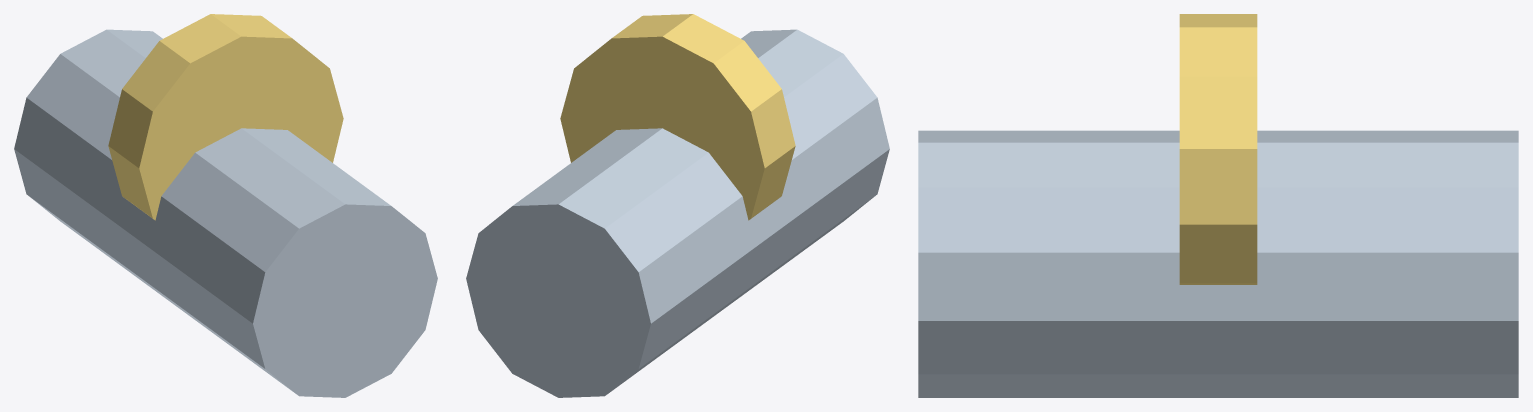
The model's file is bolardo.glb.
3 renders of one model, left to right at view 1: azimuth 30°, elevation 25°; view 2: azimuth 150°, elevation 25°; view 3: azimuth 270°, elevation 25°, orthographic. The views are drawn at different scales.
Parts seen in each view (by area): view 1: Bollard_1, BollardBand_2; view 2: Bollard_1, BollardBand_2; view 3: Bollard_1, BollardBand_2.
Boxes of the visible parts, x1,y1,x2,y2 form: Bollard_1: [14, 29, 437, 397]; BollardBand_2: [108, 14, 343, 220]; Bollard_1: [466, 29, 889, 397]; BollardBand_2: [560, 14, 795, 220]; Bollard_1: [918, 130, 1518, 397]; BollardBand_2: [1179, 14, 1257, 284].
Bounding box in the file's own units: 0.42 × 0.56 × 0.85.
